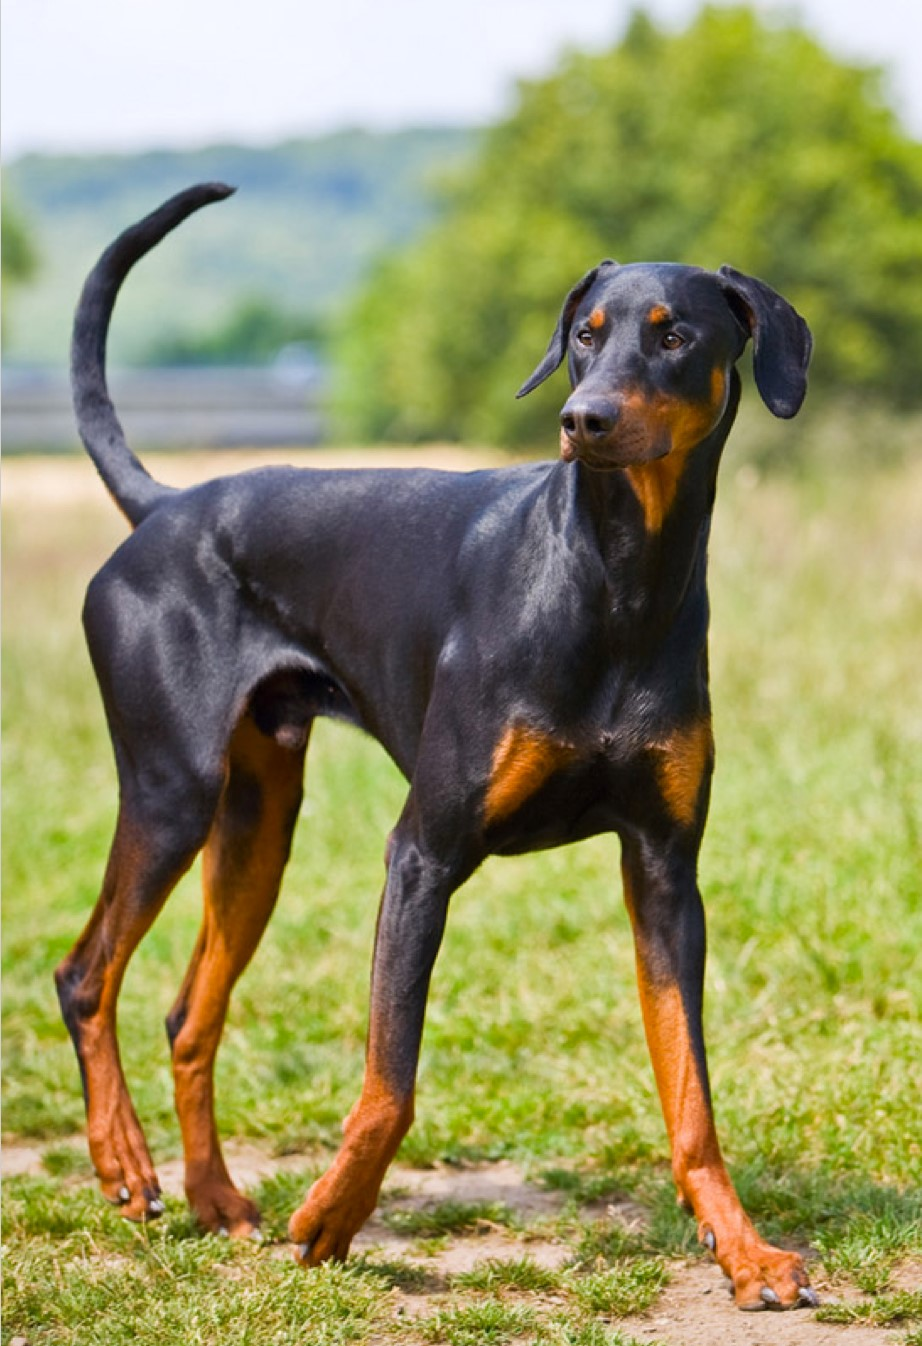tail: (46, 171, 261, 532)
